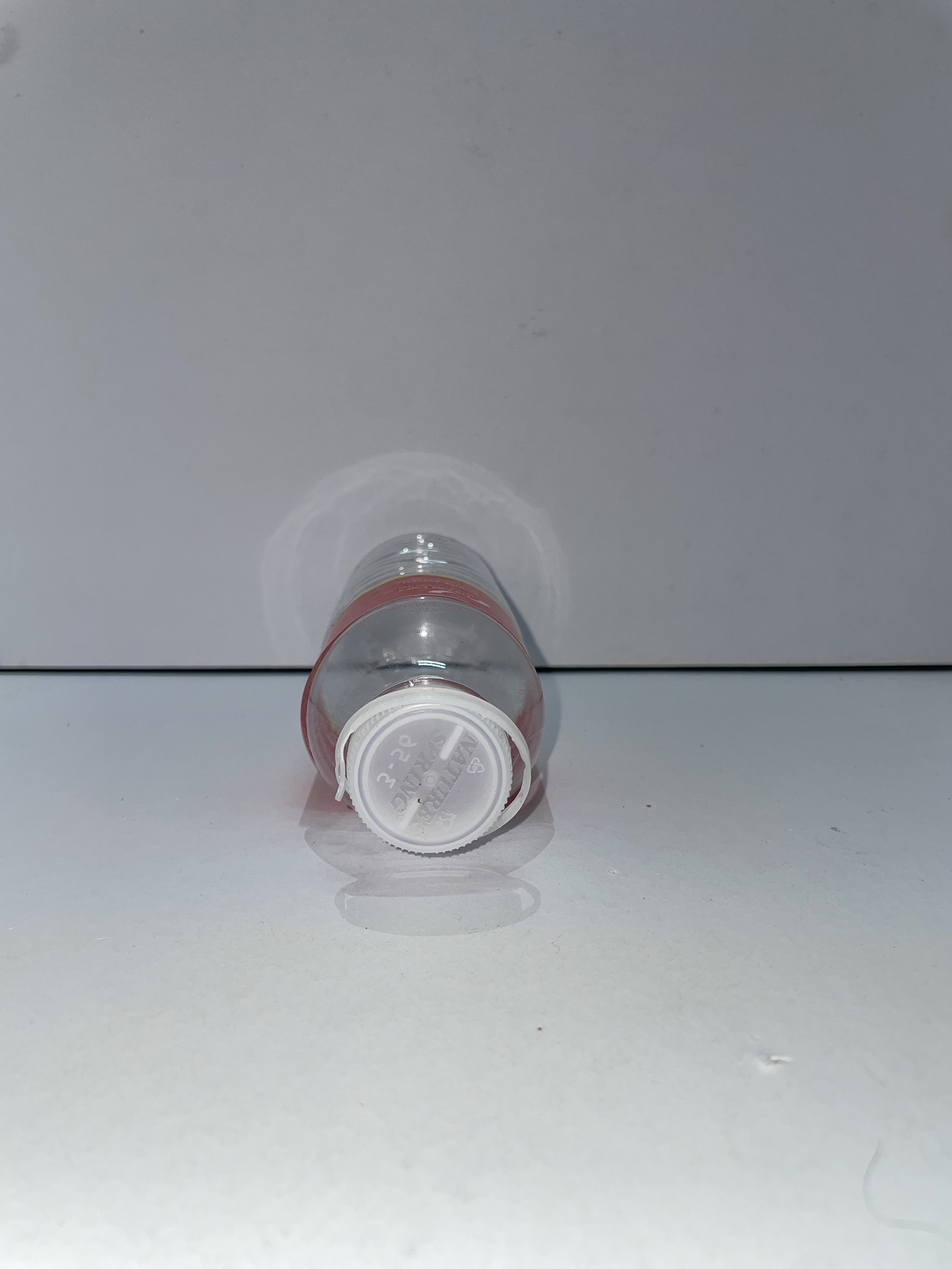Nature spring victory liner 330ml: (301, 533, 544, 853)
